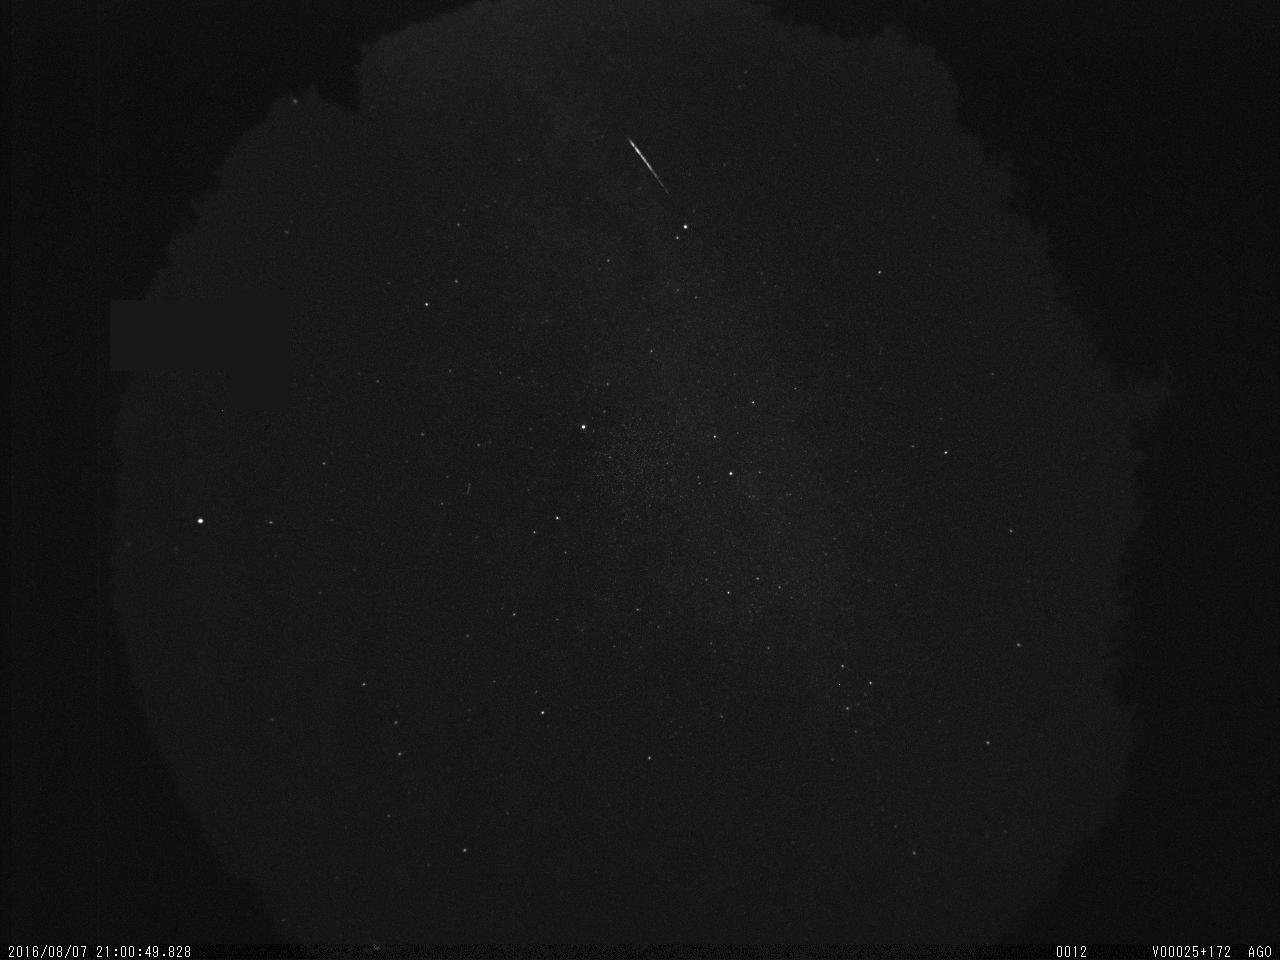meteor: (613, 121, 685, 206)
